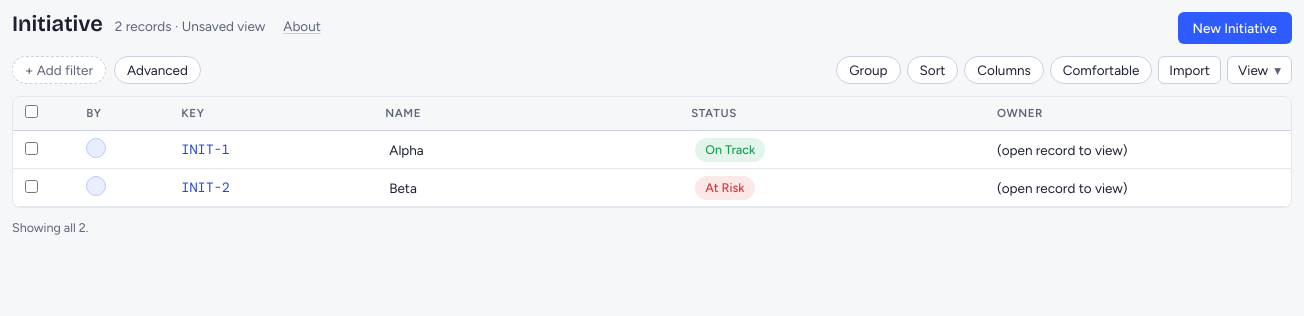
Test: TableView: group, sort and columns are chips › says what it is grouped by, and the × puts it back to no grouping
The image size is (1304, 316).
Click the button "Group": (868, 70) [837,57,900,83]
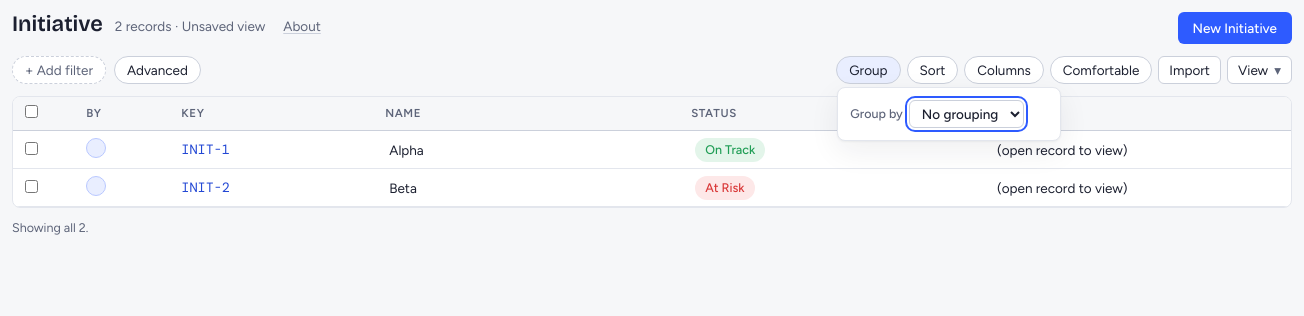
Select "Status" in the dropdown labelled "Group by": (966, 114) [909,100,1024,128]
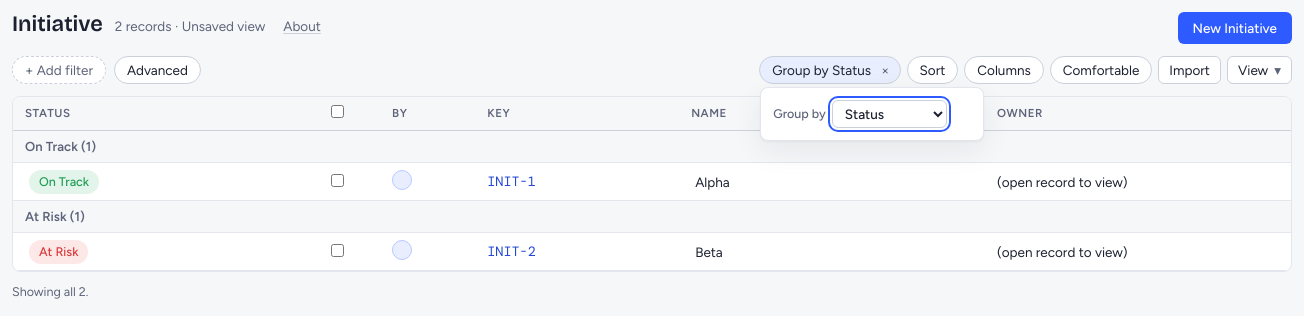
Check: the element with test id "group-chip" shows "Group by Status", box [760,57,877,83]
Click the button named "Remove grouping": (888, 70) [877,57,900,83]
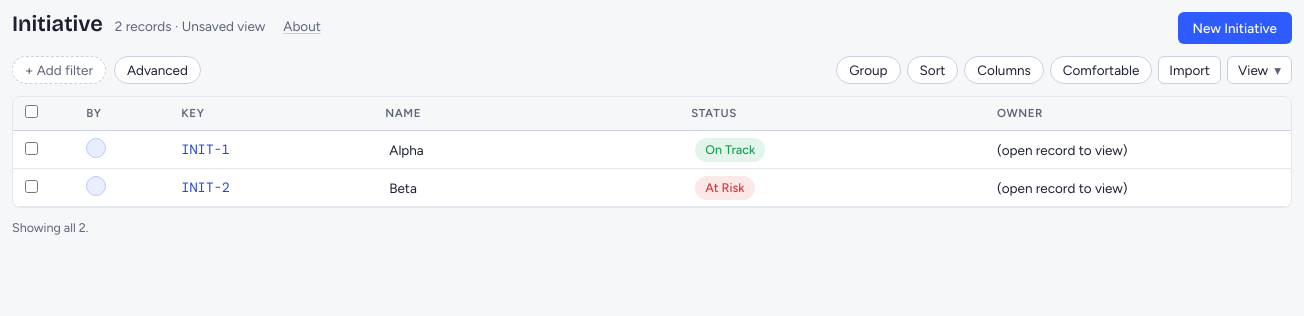
Check: the element with test id "group-chip" reads "Group", box [837,57,900,83]
